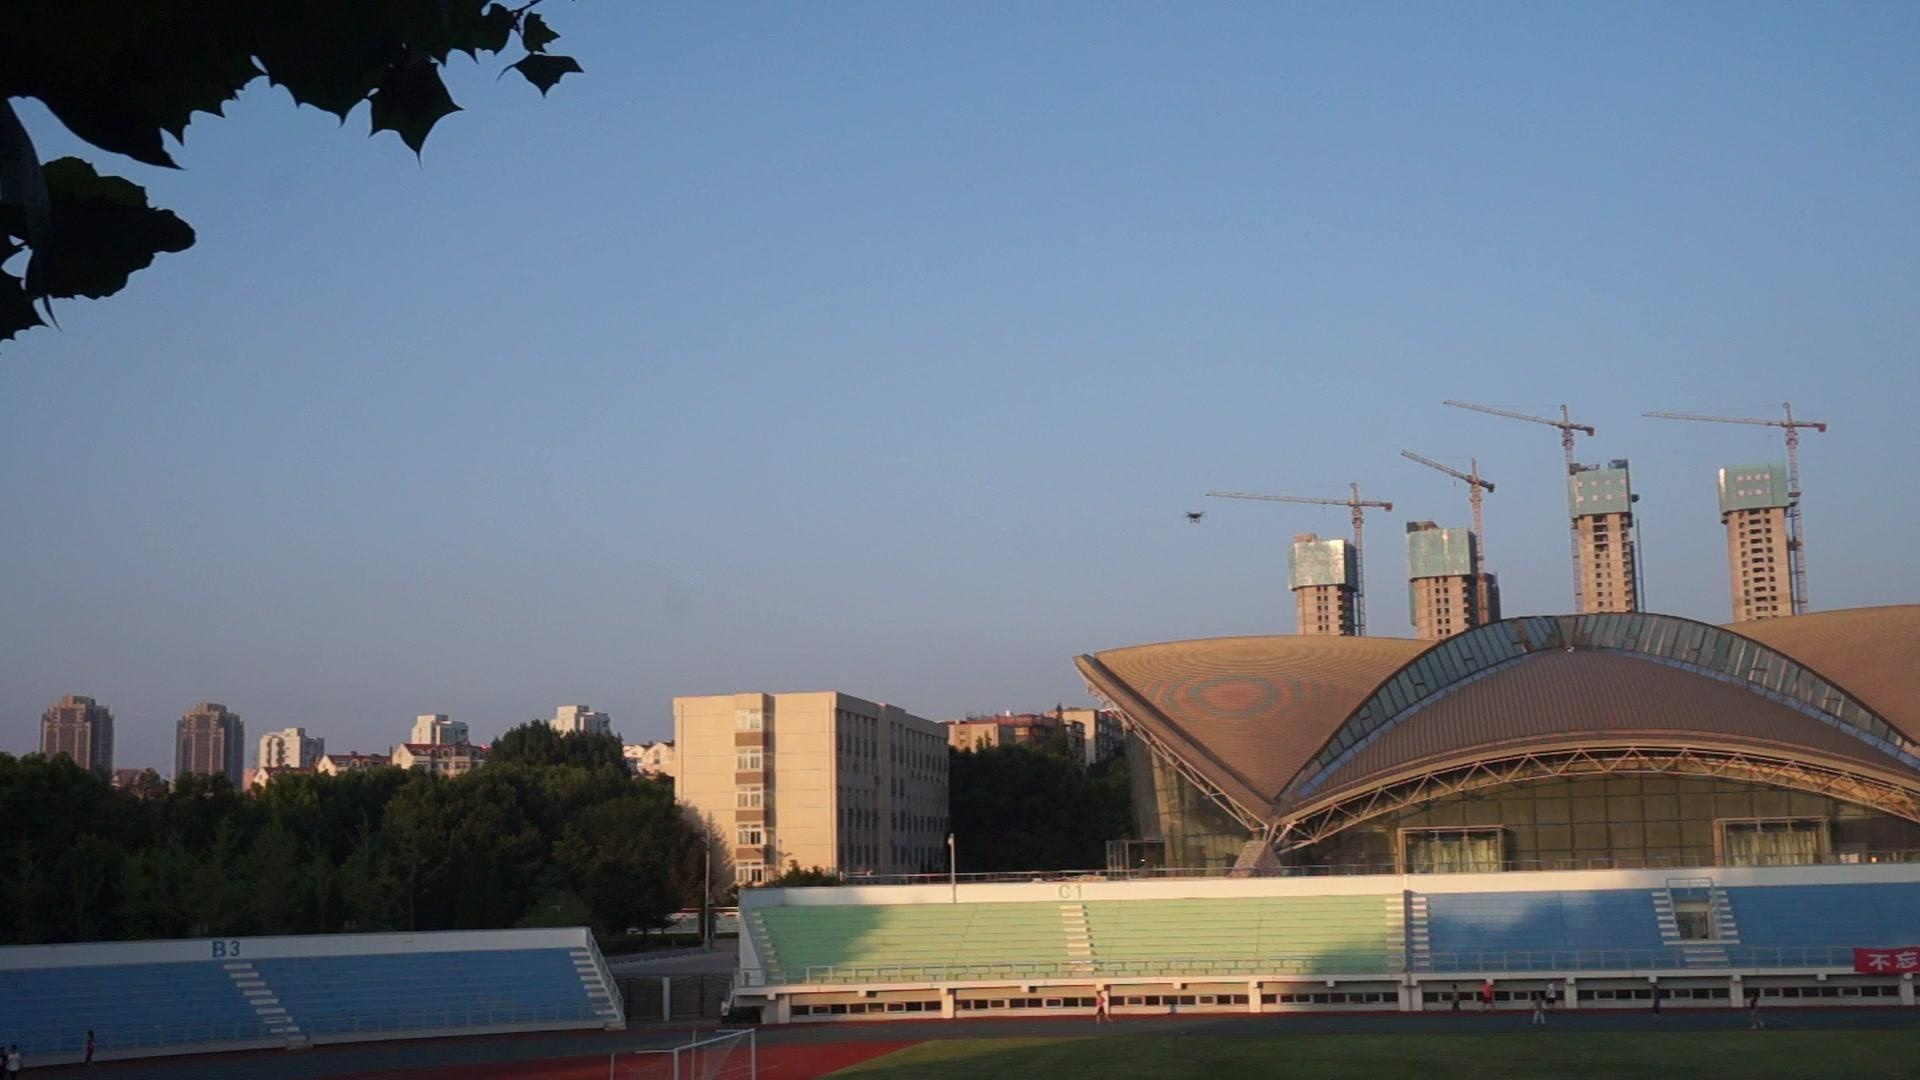UAV: (1182, 512, 1211, 525)
